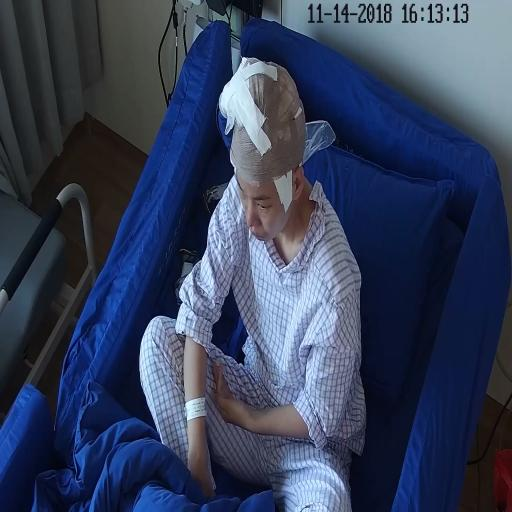Seizure: (229, 115, 301, 247)
